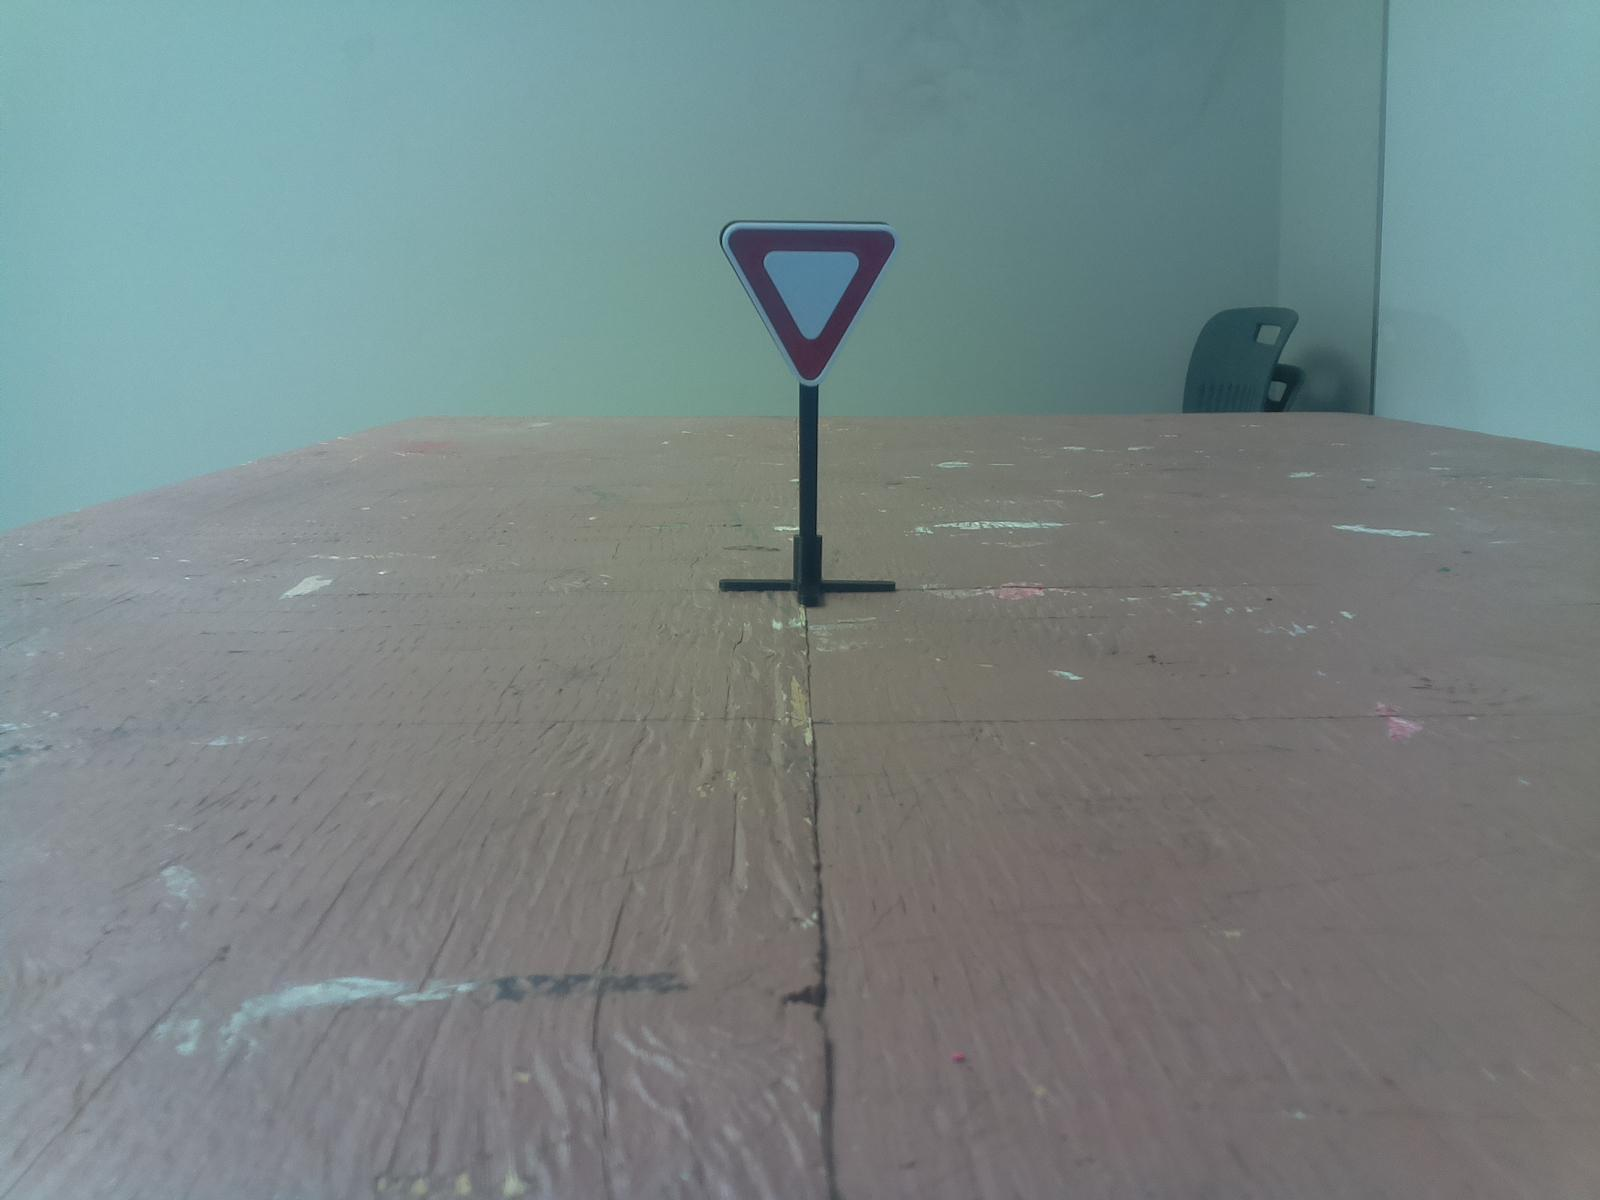sign_yield: (688, 207, 922, 398)
